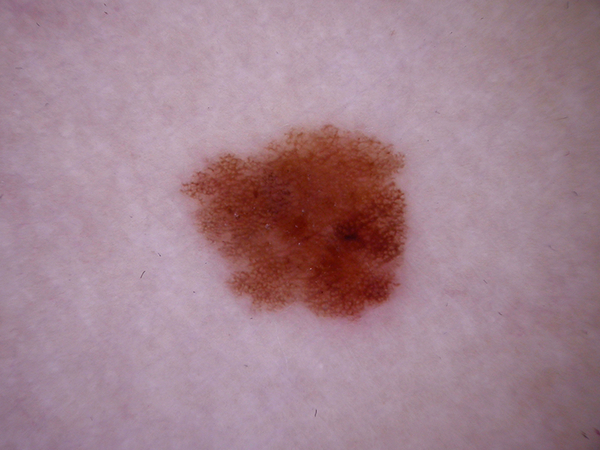Detected Lesion: (173, 101, 431, 342)
